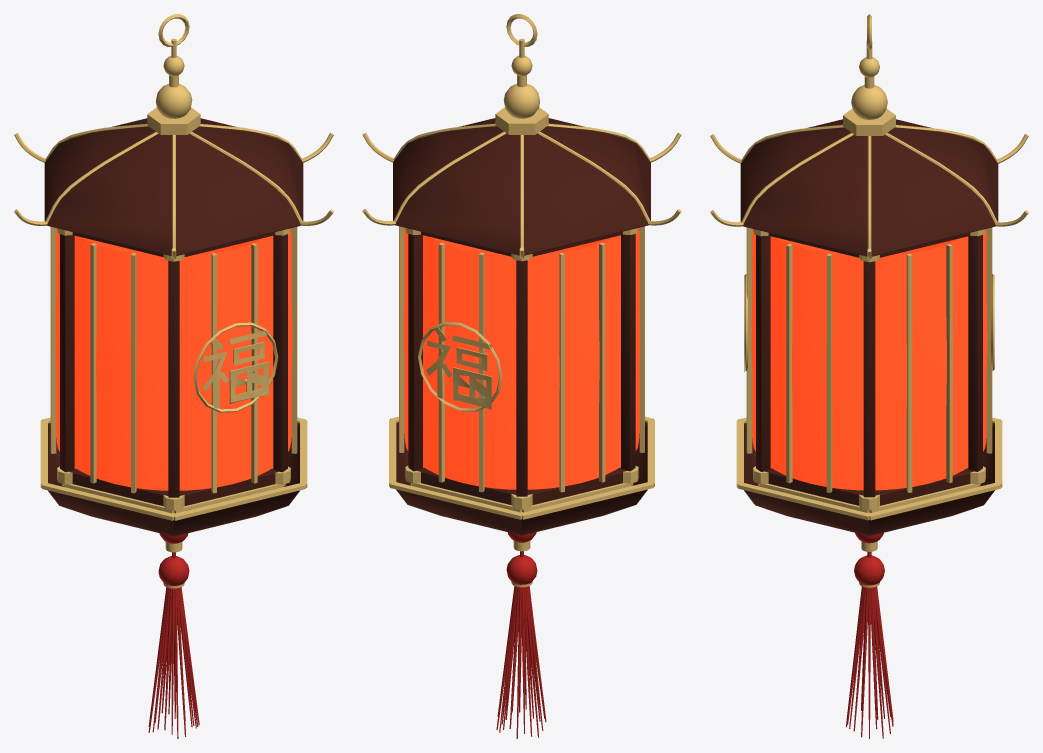
The model's file is SM_PalaceLantern_6S.glb.
3 renders of one model, left to right at view 1: azimuth 30°, elevation 25°; view 2: azimuth 150°, elevation 25°; view 3: azimuth 270°, elevation 25°, orthographic.
Visible parts, largest first — view 1: SM_PalaceLantern_6S; view 2: SM_PalaceLantern_6S; view 3: SM_PalaceLantern_6S.
Part boxes in pixels (x1,y1,x2,y2): SM_PalaceLantern_6S: (14,14,333,738); SM_PalaceLantern_6S: (362,14,681,738); SM_PalaceLantern_6S: (710,14,1028,738).
Bounding box in the file's own units: 0.8976 × 1.93 × 0.7801.
